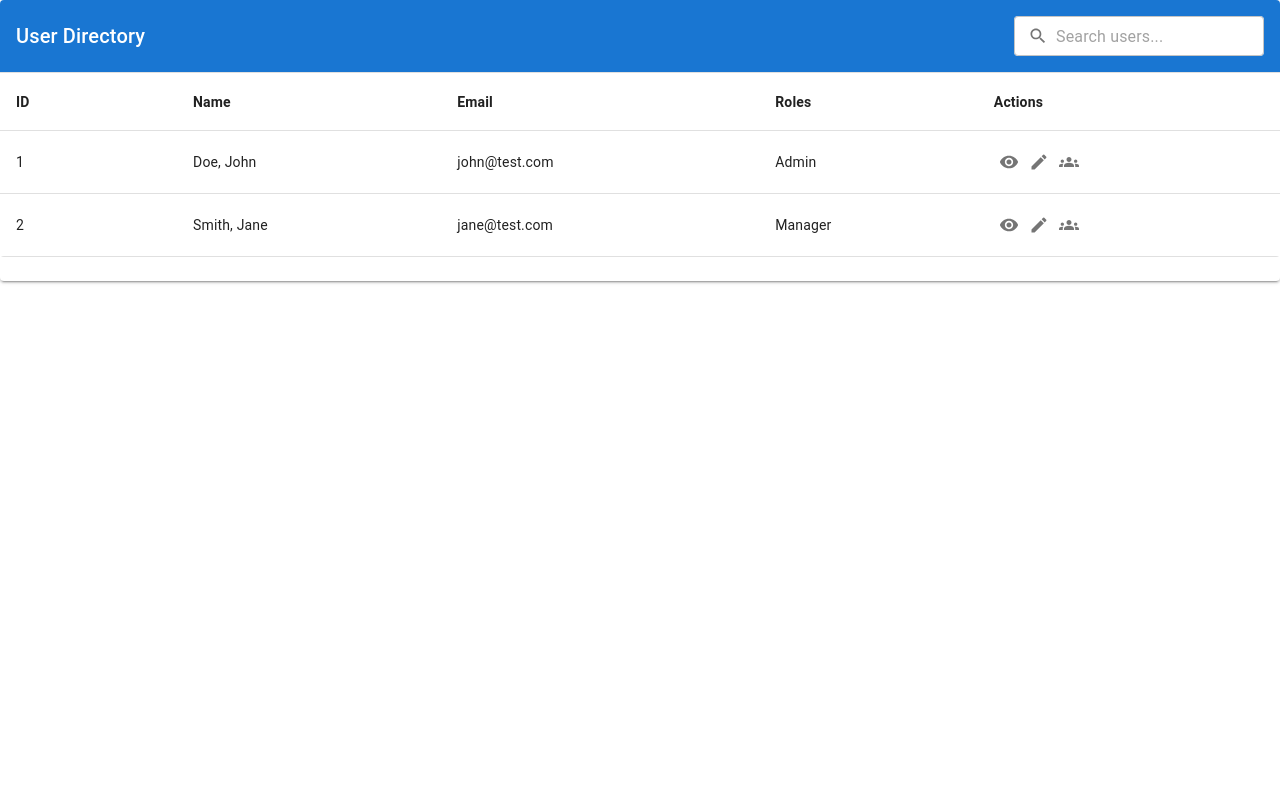
Test: UsersView › should open the group membership modal when groups icon is clicked
The image size is (1280, 800).
Check: the text "Doe, John" is shown, box x1=177 y1=131 x2=441 y2=194
Click the button named "Change Groups" in the row of "Doe, John" at (1069, 162), box x1=1054 y1=147 x2=1084 y2=177
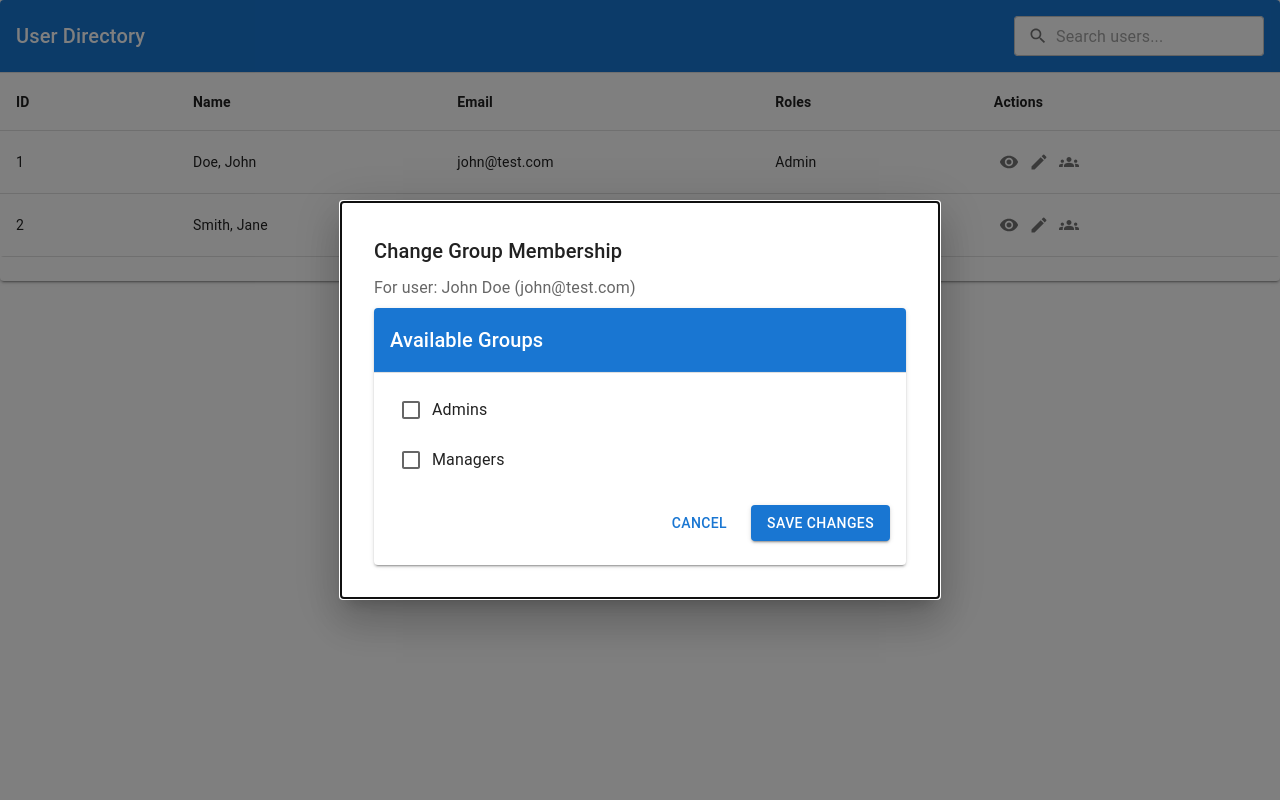
Check: the heading "Change Group Membership" is shown, box x1=374 y1=239 x2=622 y2=263
Check: the heading "For user: John Doe (john@test.com)" is shown, box x1=374 y1=278 x2=636 y2=297
Check: the checkbox labelled "Admins" is shown, box x1=399 y1=398 x2=487 y2=422
